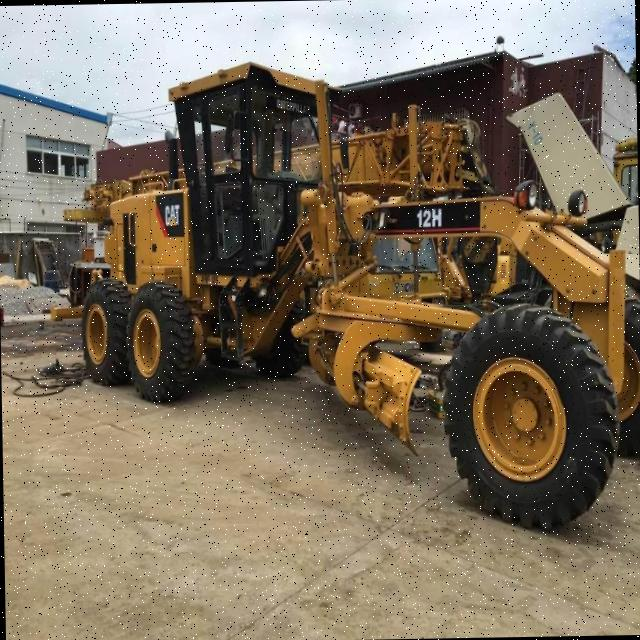Grader: (65, 37, 640, 540)
